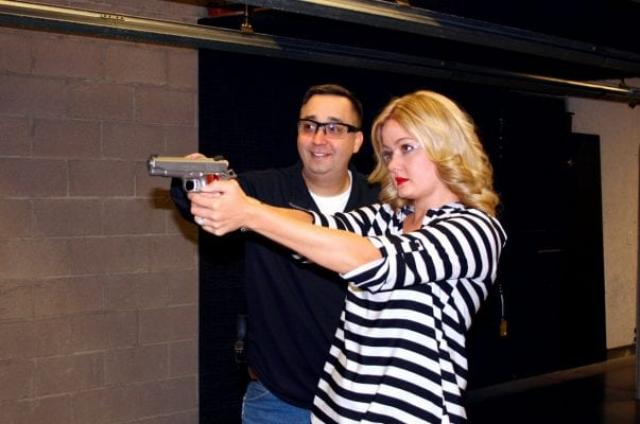handgun: (143, 151, 239, 210)
